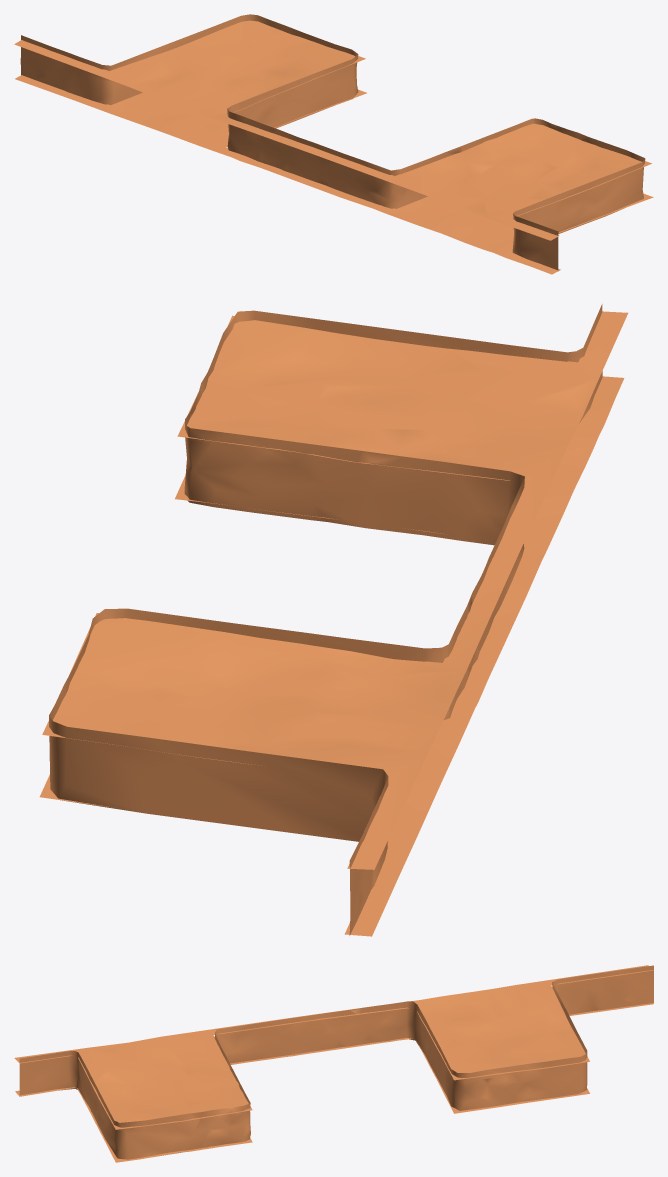
File: Unique 4.fbx
3 views of the same model, one above another, from view 1: azimuth 30°, elevation 25°; view 2: azimuth 150°, elevation 25°; view 3: azimuth 270°, elevation 25° (orthographic). The views are drawn at different scales.
Visible parts, largest first — view 1: Unique_4.002, Unique_4.001, Unique_4; view 2: Unique_4.002, Unique_4.001, Unique_4; view 3: Unique_4.001, Unique_4.002, Unique_4.
Boxes of the visible parts, x1=… form: Unique_4.002: x1=14, y1=20, x2=651, y2=240; Unique_4.001: x1=20, y1=14, x2=645, y2=270; Unique_4: x1=15, y1=75, x2=653, y2=274; Unique_4.002: x1=42, y1=311, x2=628, y2=869; Unique_4.001: x1=49, y1=304, x2=602, y2=935; Unique_4: x1=39, y1=376, x2=624, y2=936; Unique_4.001: x1=19, y1=965, x2=653, y2=1159; Unique_4.002: x1=14, y1=965, x2=653, y2=1129; Unique_4: x1=15, y1=1003, x2=653, y2=1162.
Bounding box in the file's own units: 1077 × 116 × 1763.
